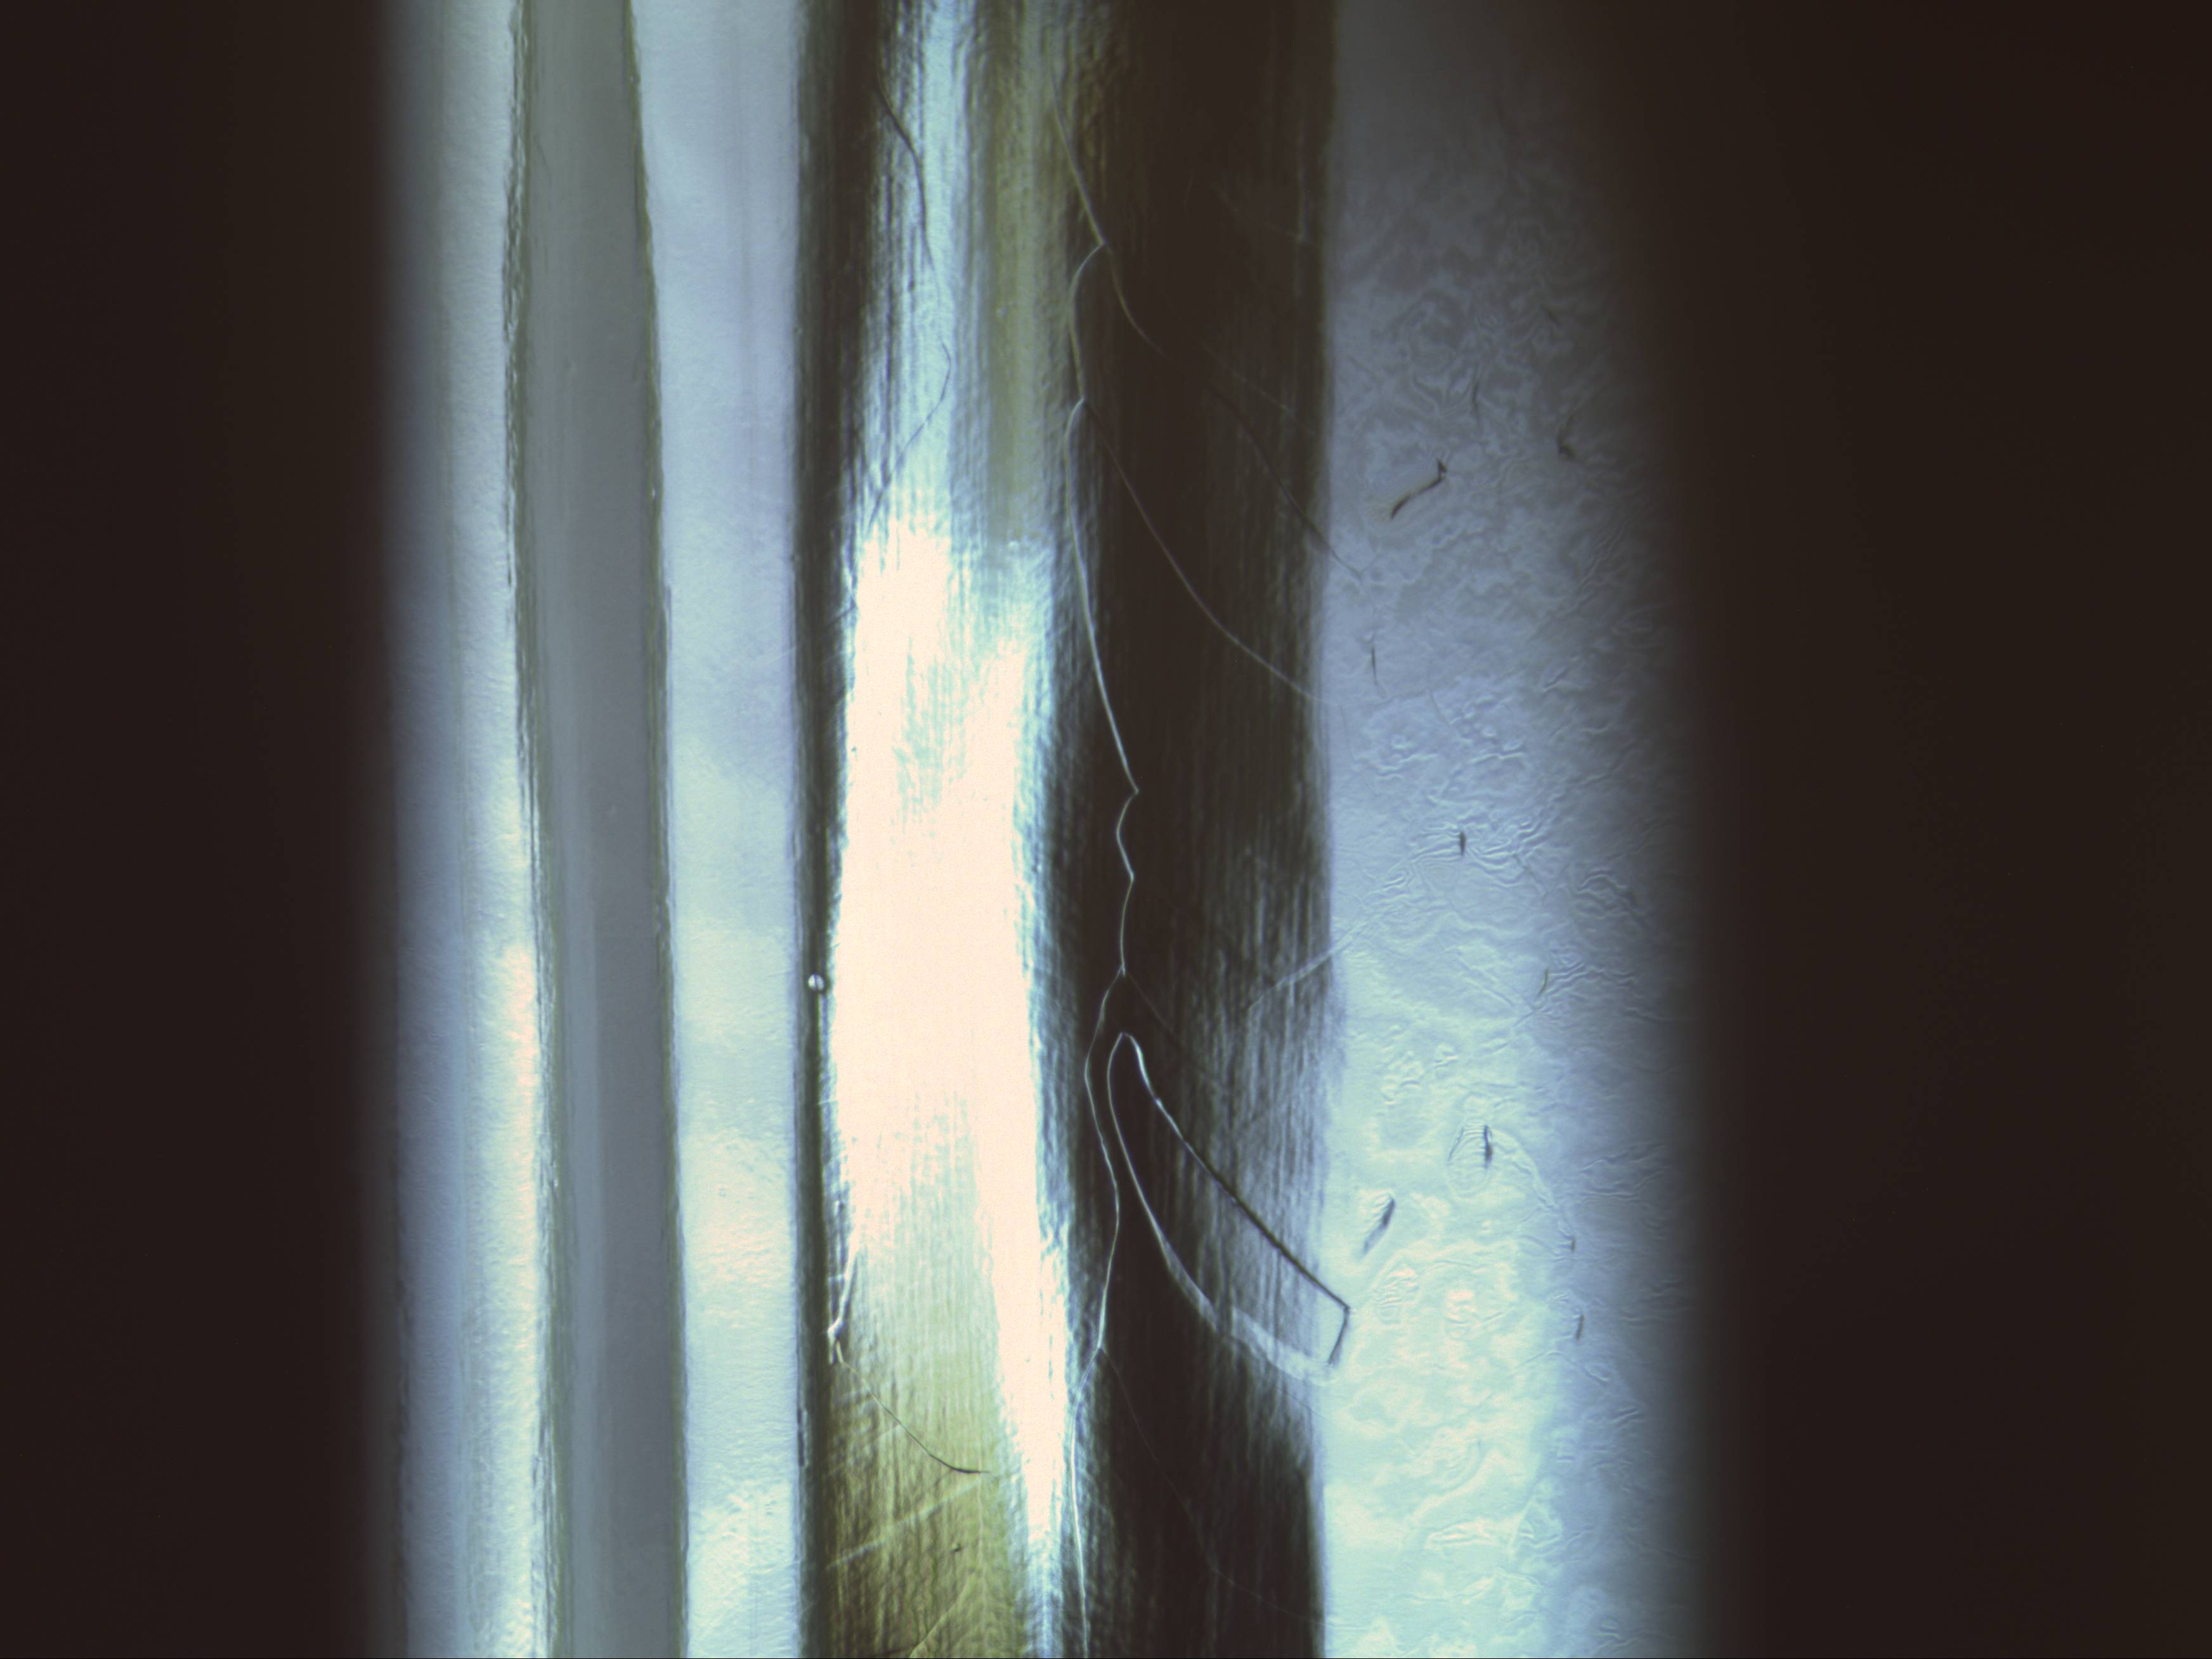defect: (799, 967, 831, 997)
